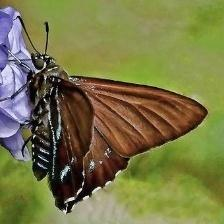butterfly: (29, 55, 208, 212)
